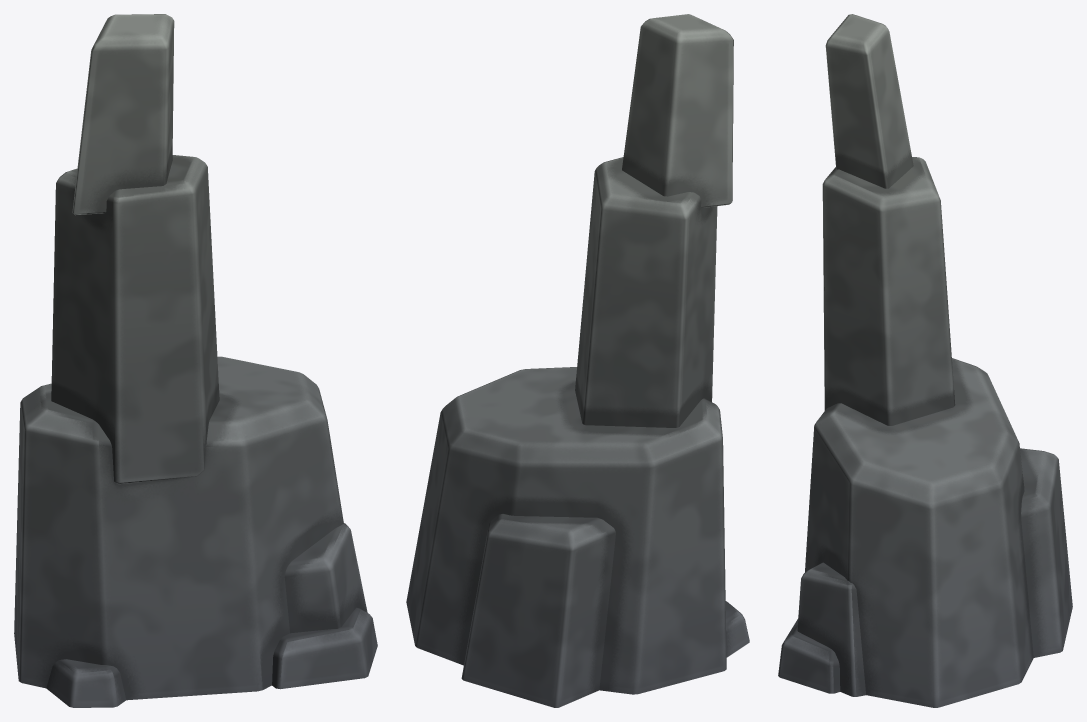
File: spire_1.glb
3 views of the same model, side by side, from view 1: azimuth 30°, elevation 25°; view 2: azimuth 150°, elevation 25°; view 3: azimuth 270°, elevation 25° (orthographic). The views are drawn at different scales.
Parts seen in each view (by area): view 1: spire_1; view 2: spire_1; view 3: spire_1.
Part boxes in pixels (x1=…): spire_1: x1=14, y1=14, x2=377, y2=707; spire_1: x1=406, y1=14, x2=749, y2=707; spire_1: x1=778, y1=14, x2=1072, y2=707.
Size of the model in its own units: 3.2 by 6 by 2.8.
1 material, 1 textured.
